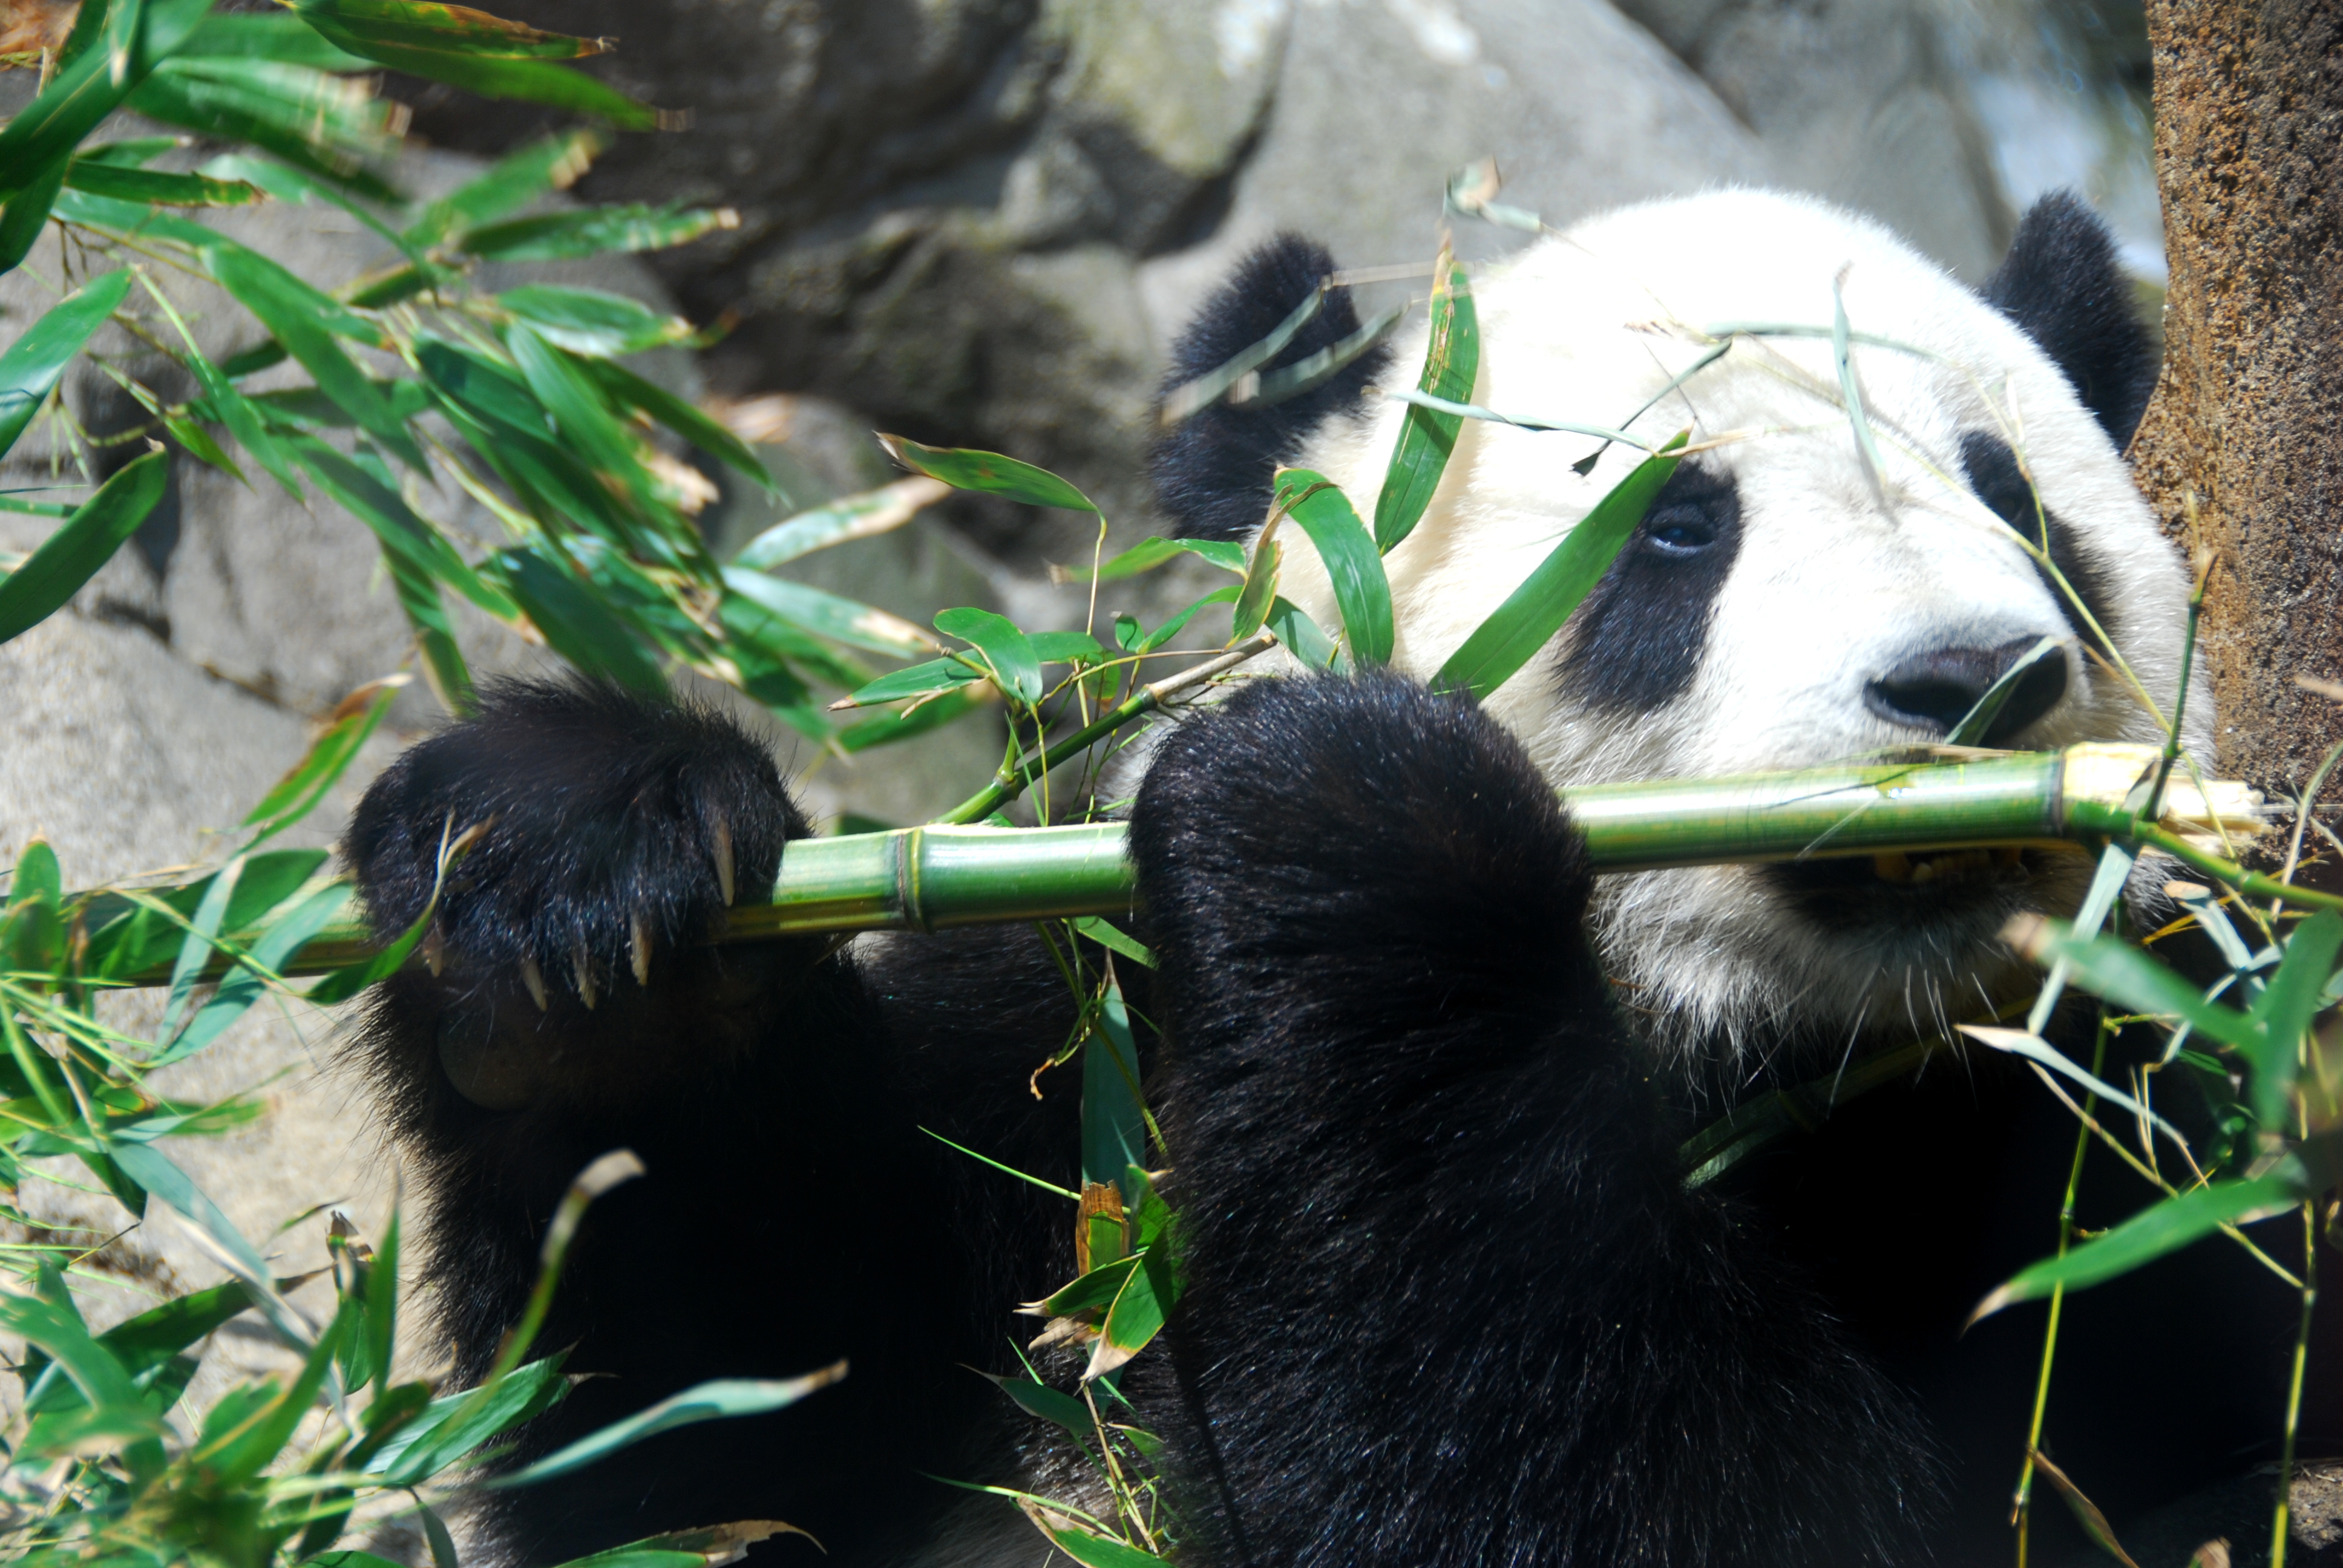panda: (268, 177, 2250, 1550)
